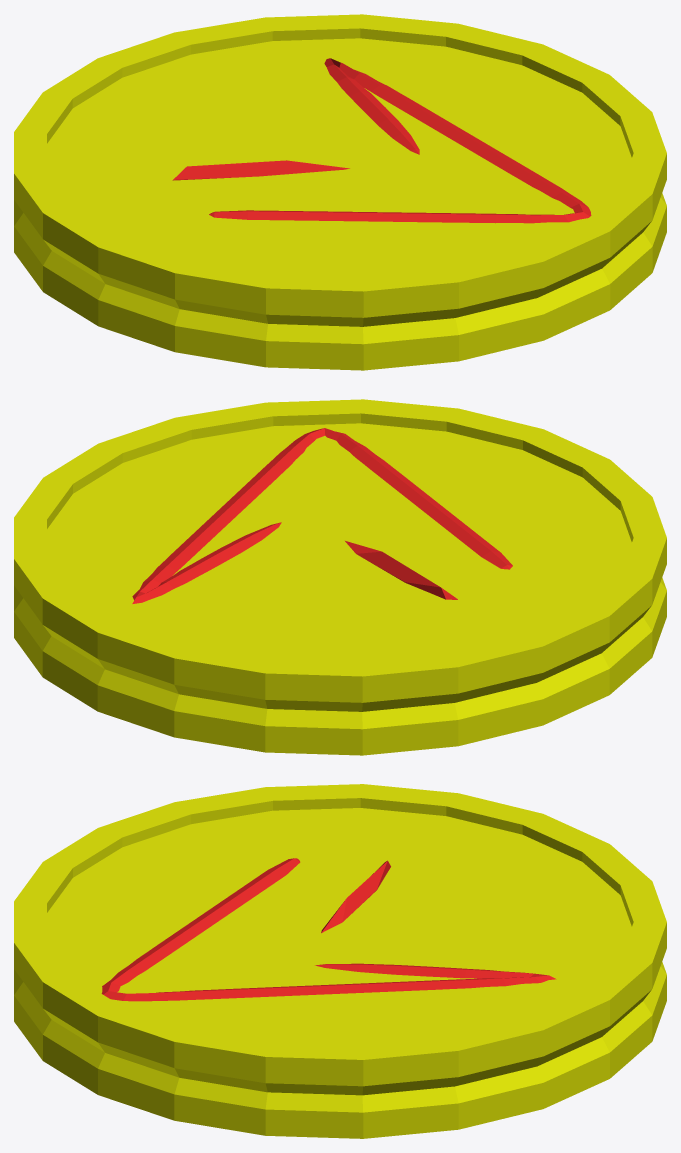
Rendered from coin-5-1.fbx.
3 renders of one model, top to bottom at view 1: azimuth 30°, elevation 25°; view 2: azimuth 150°, elevation 25°; view 3: azimuth 270°, elevation 25°, orthographic.
Parts seen in each view (by area): view 1: Plane.028; view 2: Plane.028; view 3: Plane.028.
Part boxes in pixels (left/top/right/bottom): Plane.028: left=14, top=14, right=666, bottom=370; Plane.028: left=14, top=399, right=666, bottom=755; Plane.028: left=14, top=784, right=666, bottom=1138.
Size of the model in its own units: 3 by 0.408 by 3.
